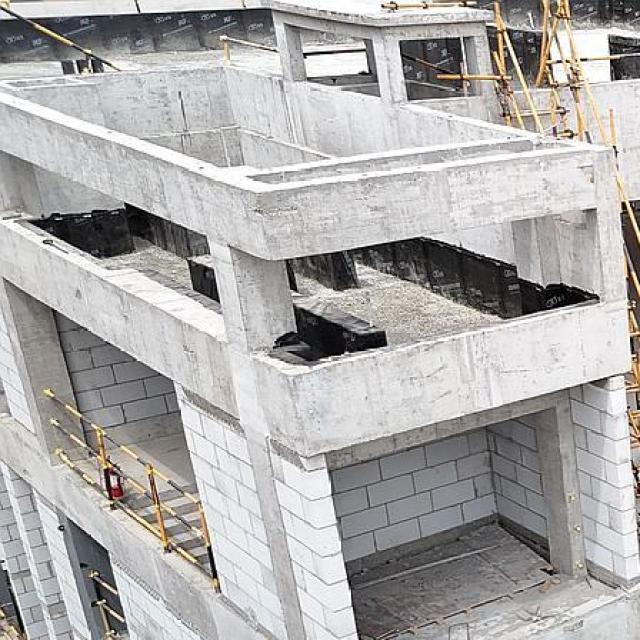edge_guardrail: (46, 389, 221, 594), (0, 5, 123, 74), (88, 570, 126, 640), (545, 52, 640, 65)
